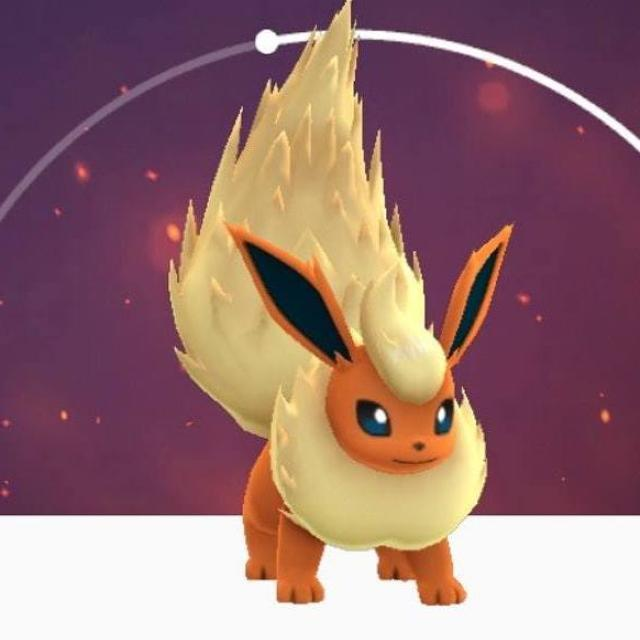Flareon: (202, 199, 520, 615)
